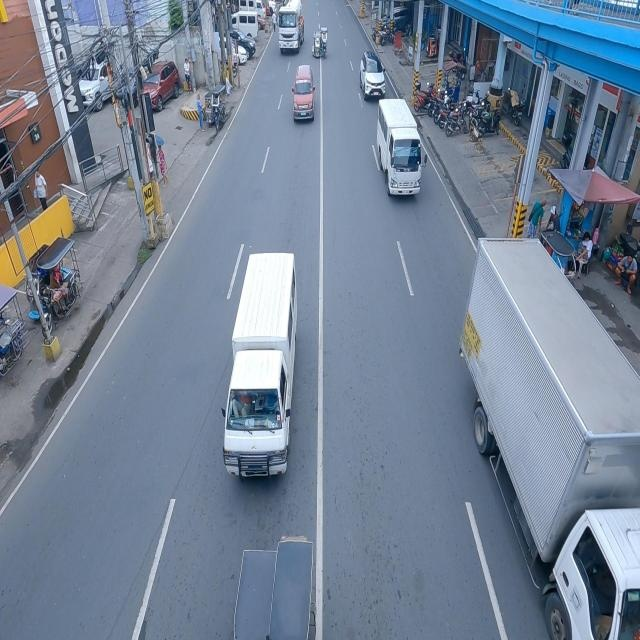Van: (222, 249, 300, 485), (374, 95, 426, 201)
